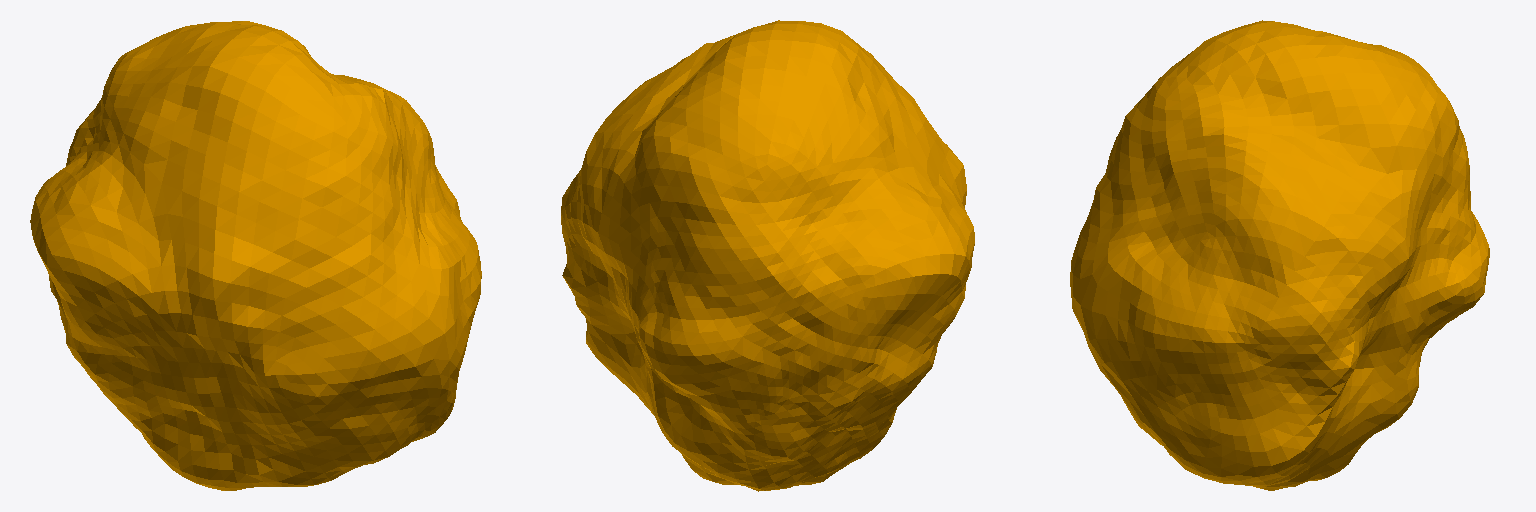
robot.urdf — rock:
<?xml version="1.0" ?>
<robot name="rock">
  <link name="rock">
    <inertial>
      <mass value="0.336"/>
      <origin rpy="0 0 0" xyz="0 0 0"/>
      <inertia ixx="0.000336" ixy="0" ixz="0" iyy="0.000336" iyz="0" izz="0.000336"/>
    </inertial>
    <collision name="rock_collision">
      <origin rpy="0 0 0" xyz="0 0 0"/>
      <geometry>
        <mesh filename="package://rocks/visual/180.dae" scale="1 1 1"/>
      </geometry>
    </collision>
    <visual name="rock_visual">
      <origin rpy="0 0 0" xyz="0 0 0"/>
      <geometry>
        <mesh filename="package://rocks/visual/180.dae" scale="1 1 1"/>
      </geometry>
    </visual>
  </link>
</robot>

--- What the picture shows (computed from the rendered views, not written in the file) ---
The picture shows the robot from 3 angles, left to right: view 1: azimuth 30°, elevation 25°; view 2: azimuth 150°, elevation 25°; view 3: azimuth 270°, elevation 25°; orthographic projection.
Robot: rock — 1 links, 0 joints (none); root link rock; default pose: all joints at 0.
Visible links, largest first — view 1: rock; view 2: rock; view 3: rock.
Link boxes in pixels (box(x1,y1,x2,y2)): rock: box(30, 21, 481, 490); rock: box(561, 20, 974, 491); rock: box(1070, 20, 1489, 490).
Bounding box of the posed robot: 0.0963 × 0.0928 × 0.1053 m (x, y, z).
1 mesh visuals loaded from 1 distinct referenced files (1 Collada DAE).